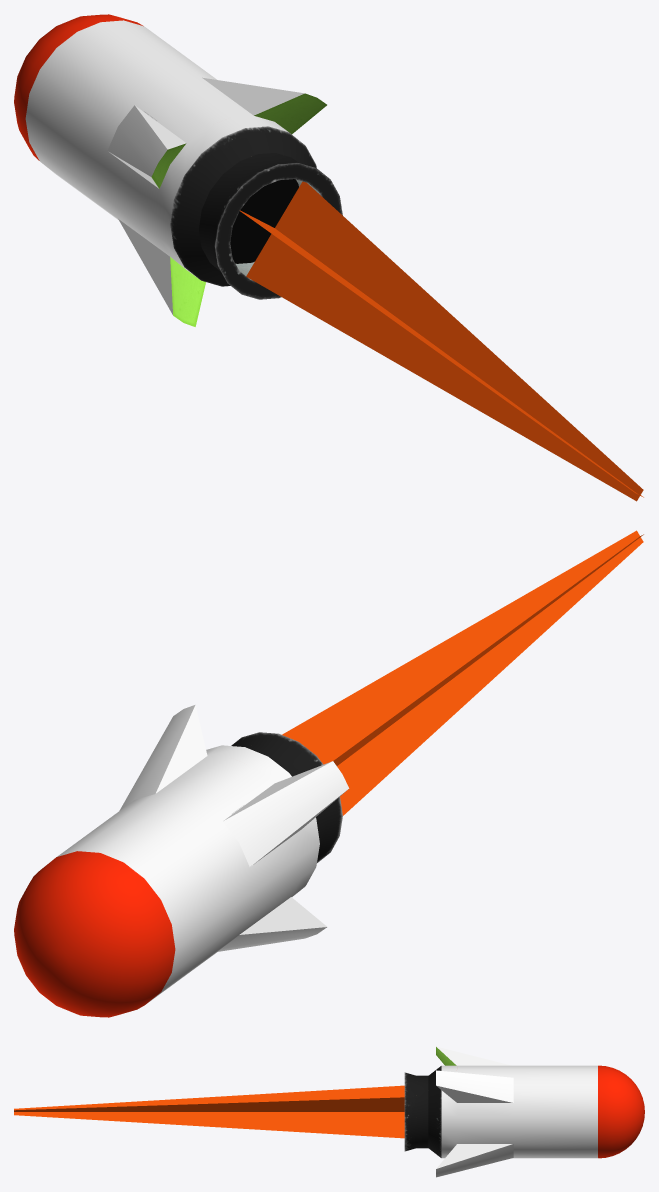
Rendered from cohete.obj.
3 renders of one model, top to bottom at view 1: azimuth 30°, elevation 25°; view 2: azimuth 150°, elevation 25°; view 3: azimuth 270°, elevation 25°, orthographic. The views are drawn at different scales.
Parts seen in each view (by area): view 1: _polySurface1_StingrayPBS2_0, _polySurface1_StingrayPBS1_0; view 2: _polySurface1_StingrayPBS2_0, _polySurface1_StingrayPBS1_0; view 3: _polySurface1_StingrayPBS2_0, _polySurface1_StingrayPBS1_0.
Part boxes in pixels (box(x1,y1,x2,y2)): _polySurface1_StingrayPBS2_0: box(14, 14, 342, 326); _polySurface1_StingrayPBS1_0: box(240, 181, 643, 501); _polySurface1_StingrayPBS2_0: box(14, 705, 349, 1017); _polySurface1_StingrayPBS1_0: box(282, 530, 643, 815); _polySurface1_StingrayPBS2_0: box(404, 1046, 644, 1177); _polySurface1_StingrayPBS1_0: box(14, 1085, 404, 1138).
Size of the model in its own units: 0.5271 by 0.5271 by 2.69.
